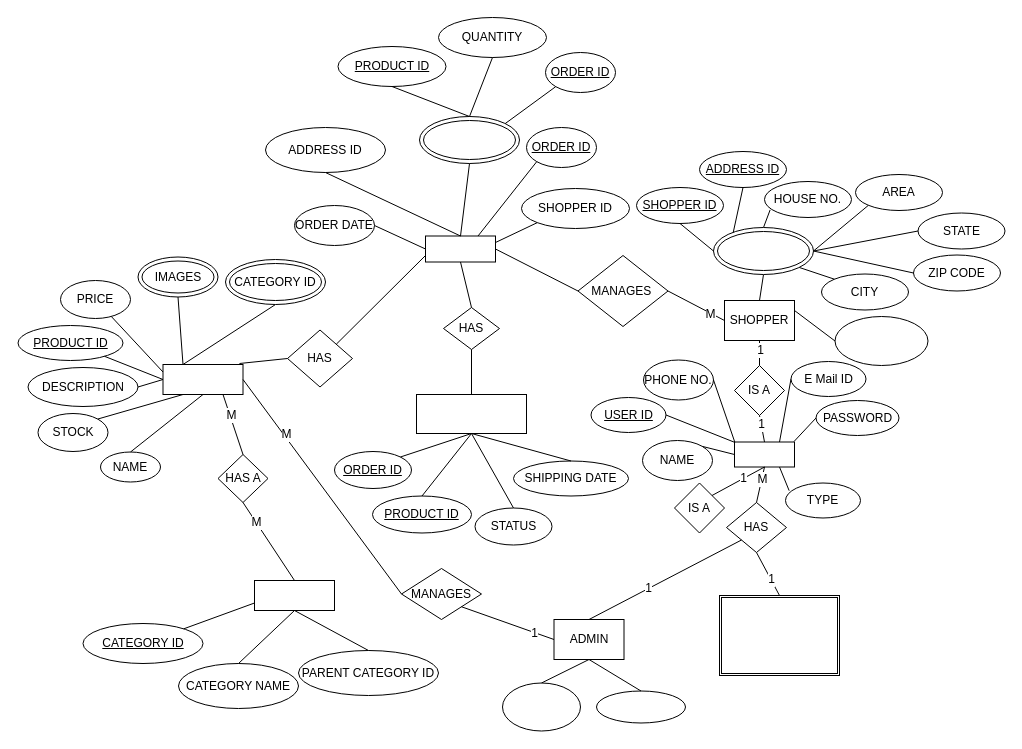
Image size: 1022x749. Some labels were removed from this diagram. Here are the shapes that lost their labels. From the top down, the centre of each, then its label:
At point (469, 140): "ORDERED PRODUCTS".
At point (460, 248): "ORDERS".
At point (763, 250): "ADDRESS".
At point (881, 341): "SHOPPER ID / USER ID".
At point (202, 379): "PRODUCT".
At point (471, 414): "ORDER STATUS".
At point (764, 454): "USER".
At point (294, 595): "CATEGORY".
At point (779, 635): "STORE FRONT".
At point (541, 706): "ADMIN ID / USER ID".
At point (641, 706): "ADMIN KEY".
